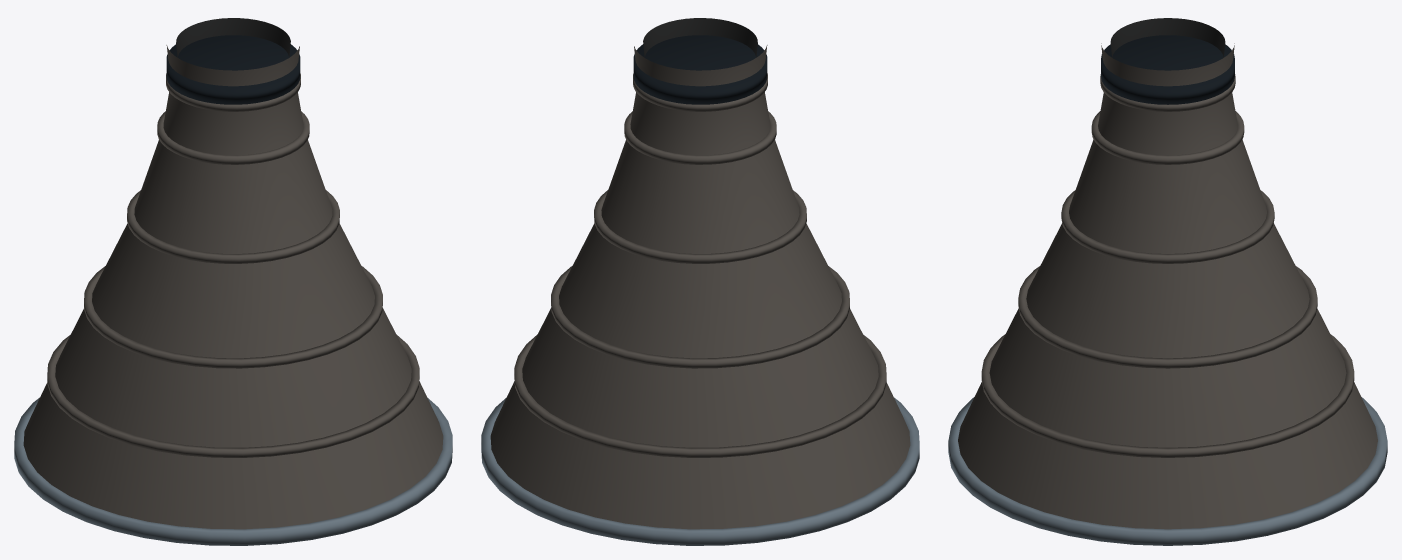
Rendered from eagle_ascent.aps.glb.
3 renders of one model, left to right at view 1: azimuth 30°, elevation 25°; view 2: azimuth 150°, elevation 25°; view 3: azimuth 270°, elevation 25°, orthographic.
Visible parts, largest first — view 1: eagle_ascent.aps.nozzle.mesh; view 2: eagle_ascent.aps.nozzle.mesh; view 3: eagle_ascent.aps.nozzle.mesh.
Part boxes in pixels (bbox=[...]): eagle_ascent.aps.nozzle.mesh: bbox=[14, 18, 452, 545]; eagle_ascent.aps.nozzle.mesh: bbox=[481, 18, 919, 545]; eagle_ascent.aps.nozzle.mesh: bbox=[948, 18, 1387, 545].
Bounding box in the file's own units: 0.7844 × 0.81 × 0.7844.
